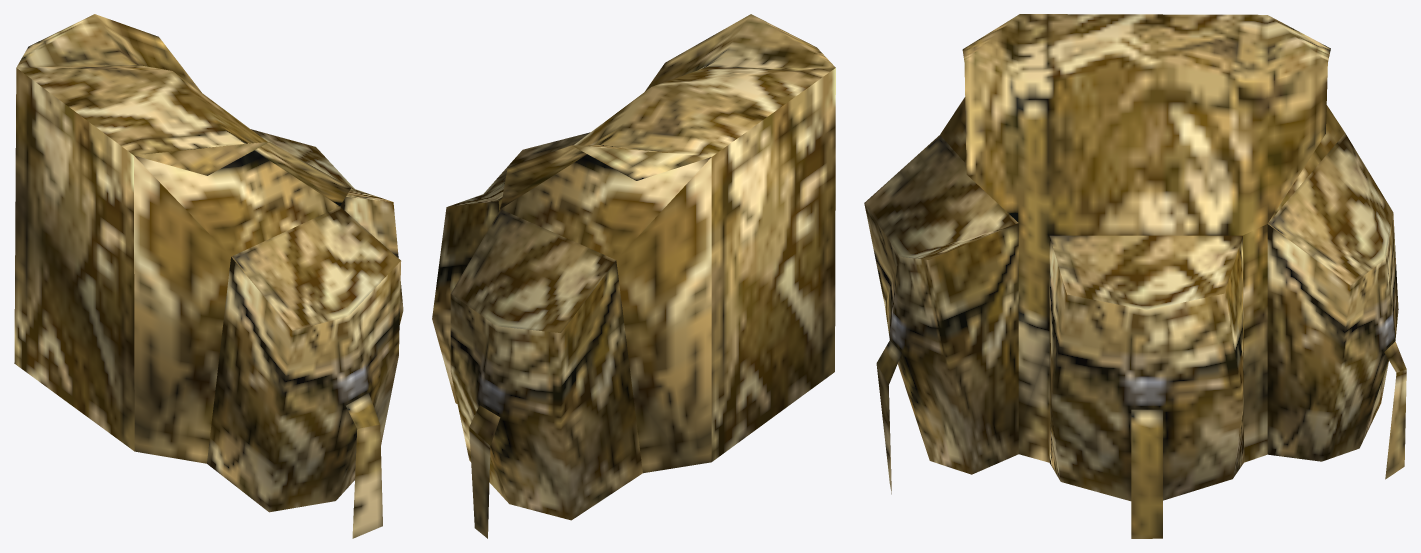
The model's file is IR_BackpackMedium.glb.
The picture shows the model from 3 angles, left to right: view 1: azimuth 30°, elevation 25°; view 2: azimuth 150°, elevation 25°; view 3: azimuth 270°, elevation 25°; orthographic projection. The views are drawn at different scales.
Visible parts, largest first — view 1: IR_BACKPACKMEDIUM; view 2: IR_BACKPACKMEDIUM; view 3: IR_BACKPACKMEDIUM.
Part boxes in pixels (left/top/right/bottom): IR_BACKPACKMEDIUM: left=14, top=14, right=403, bottom=538; IR_BACKPACKMEDIUM: left=432, top=14, right=835, bottom=538; IR_BACKPACKMEDIUM: left=864, top=14, right=1406, bottom=538.
Size of the model in its own units: 0.366 by 0.428 by 0.53.
1 material, 1 textured.
